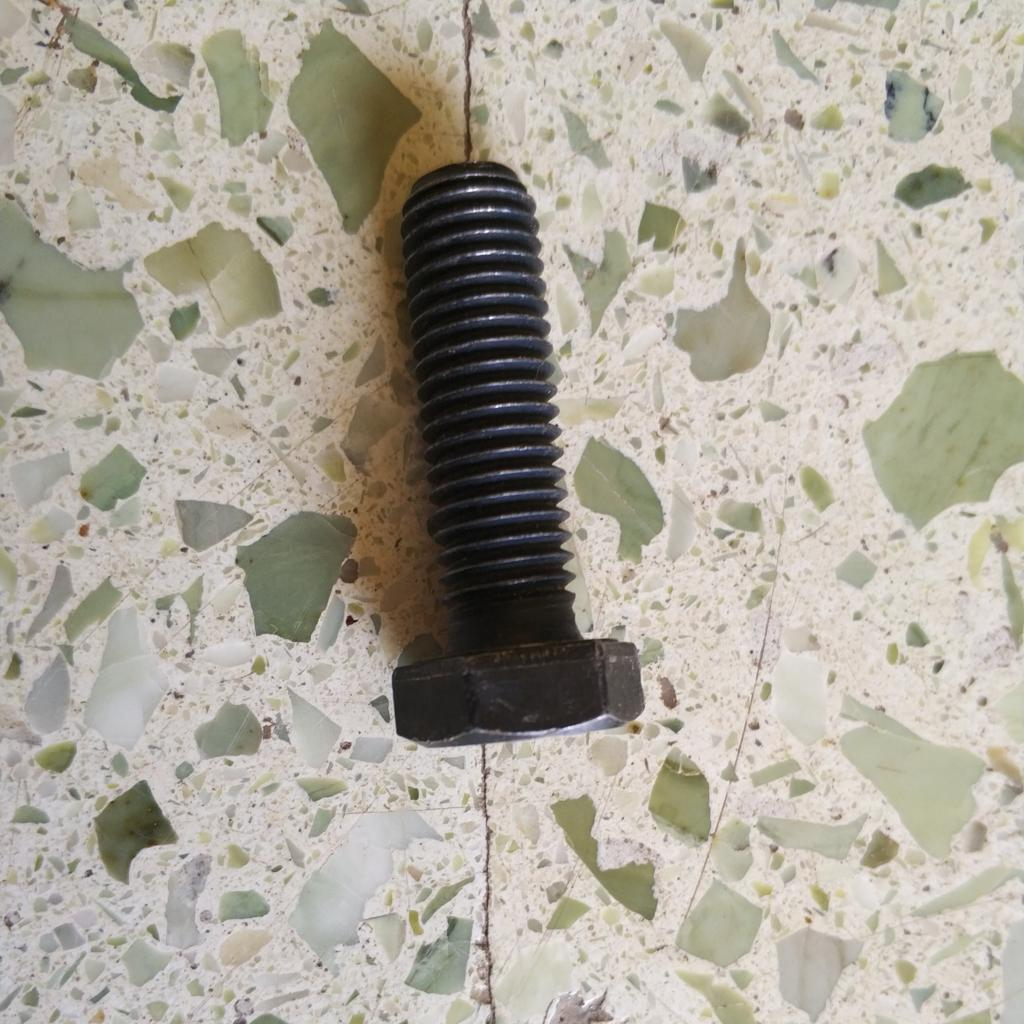screwtype2black: (381, 156, 655, 752)
